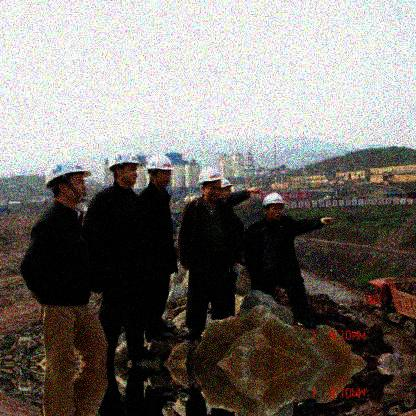helmet: (44, 161, 90, 205), (107, 152, 139, 188), (144, 155, 173, 191), (198, 167, 223, 205), (262, 193, 285, 223), (220, 177, 233, 199)
